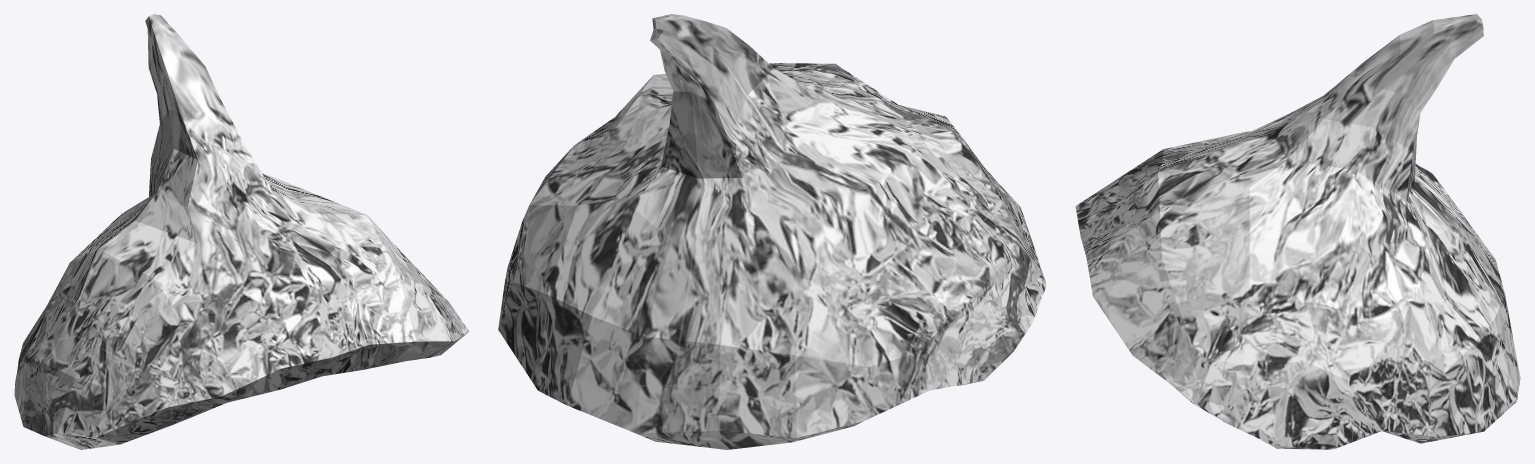
Rendered from Heat_LV1.glb.
3 renders of one model, left to right at view 1: azimuth 30°, elevation 25°; view 2: azimuth 150°, elevation 25°; view 3: azimuth 270°, elevation 25°, orthographic. The views are drawn at different scales.
Visible parts, largest first — view 1: BodyHeat_LV1; view 2: BodyHeat_LV1; view 3: BodyHeat_LV1.
Boxes of the visible parts, <box> form: BodyHeat_LV1: <box>14,14,469,449</box>; BodyHeat_LV1: <box>498,14,1046,449</box>; BodyHeat_LV1: <box>1075,14,1520,449</box>.
Bounding box in the file's own units: 1.11 × 0.9179 × 0.9841.
Materials: 1 (1 with a texture image).
